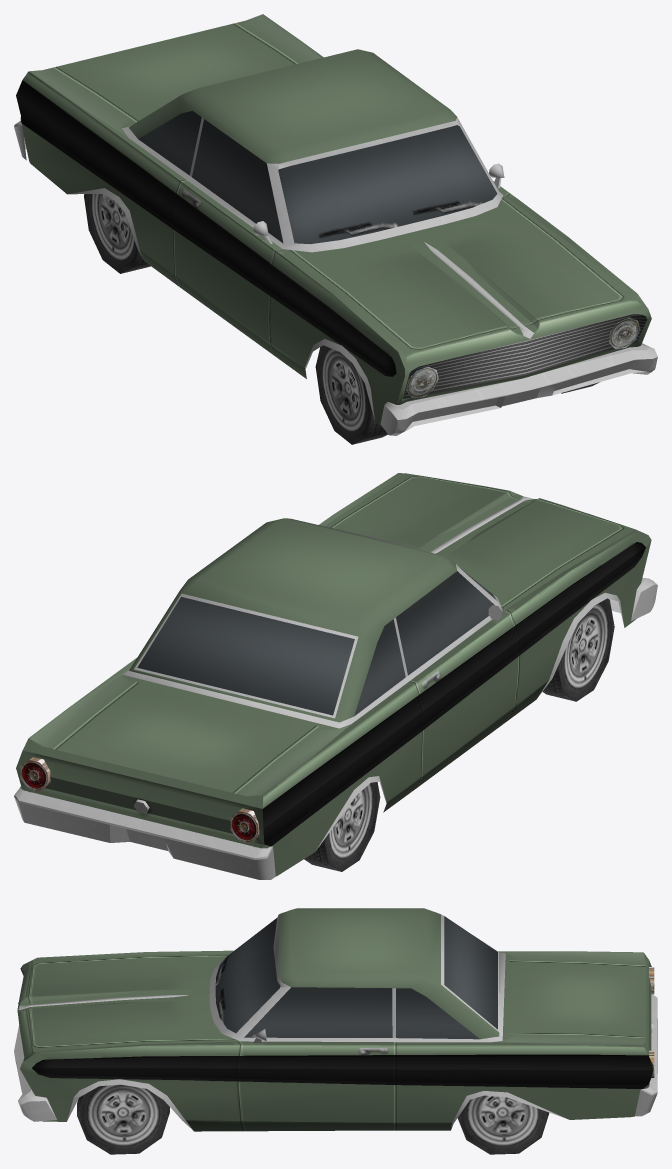
File: ClassicStreetRod_LOD1.fbx
3 views of the same model, one above another, from view 1: azimuth 30°, elevation 25°; view 2: azimuth 150°, elevation 25°; view 3: azimuth 270°, elevation 25° (orthographic). The views are drawn at different scales.
Parts seen in each view (by area): view 1: Chassis, FR_Wheel, RR_Wheel; view 2: Chassis, FR_Wheel, RR_Wheel; view 3: Chassis, LF_Wheel, LR_Wheel.
Part boxes in pixels (x1,y1,x2,y2): Chassis: [14, 14, 657, 435]; FR_Wheel: [315, 345, 387, 444]; RR_Wheel: [84, 194, 150, 273]; Chassis: [14, 473, 657, 879]; FR_Wheel: [542, 598, 614, 701]; RR_Wheel: [304, 782, 380, 871]; Chassis: [14, 908, 657, 1131]; LF_Wheel: [77, 1084, 169, 1154]; LR_Wheel: [457, 1095, 549, 1154].
Bounding box in the file's own units: 2.09 × 1.56 × 5.46.
